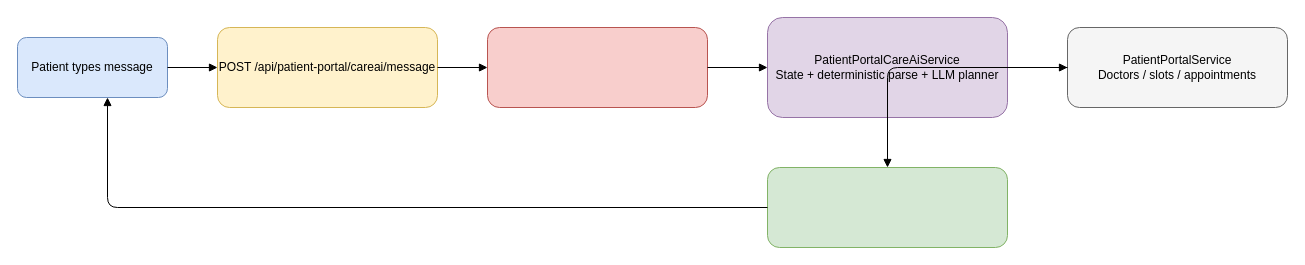
This 1305x265 diagram has some shape labels left out. Here are the shapes that lost their labels. From the top down, the centre of each, then its label:
point (597, 67): Patient session auth Tenant + patient resolved server-side
point (887, 207): Assistant reply + updated state
